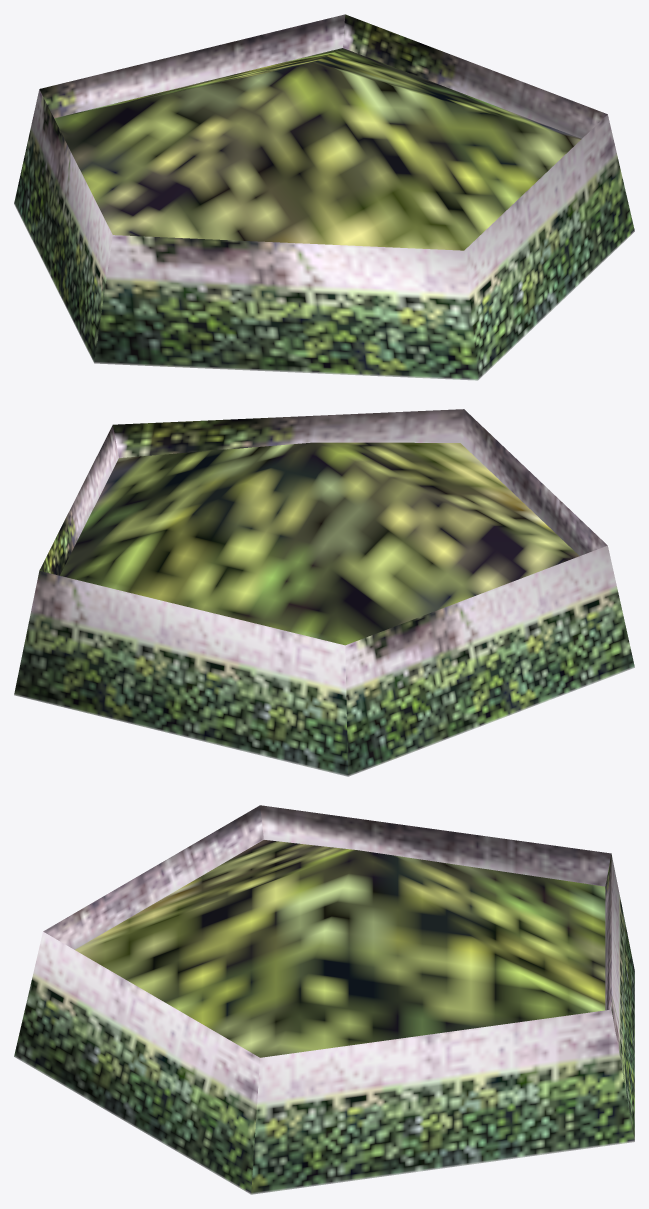
File: Environment - Vegetation - Plantr 02 - PMPlantr02.glb
3 renders of one model, top to bottom at view 1: azimuth 30°, elevation 25°; view 2: azimuth 150°, elevation 25°; view 3: azimuth 270°, elevation 25°, orthographic. The views are drawn at different scales.
Visible parts, largest first — view 1: PMPLANTR02; view 2: PMPLANTR02; view 3: PMPLANTR02.
Part boxes in pixels (box(x1,y1,x2,y2)): PMPLANTR02: box(14, 14, 634, 380); PMPLANTR02: box(14, 409, 634, 776); PMPLANTR02: box(14, 805, 634, 1194).
Bounding box in the file's own units: 18.9 × 6.58 × 17.97.
1 material, 1 textured.
